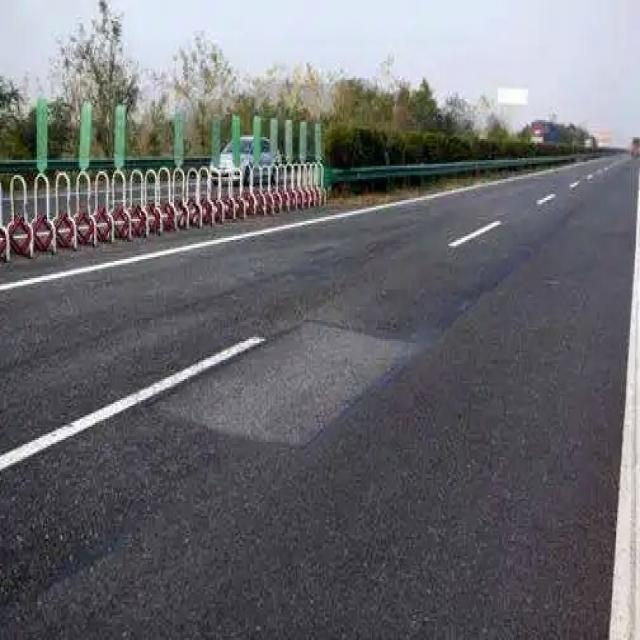Pothole: (160, 318, 423, 448)
